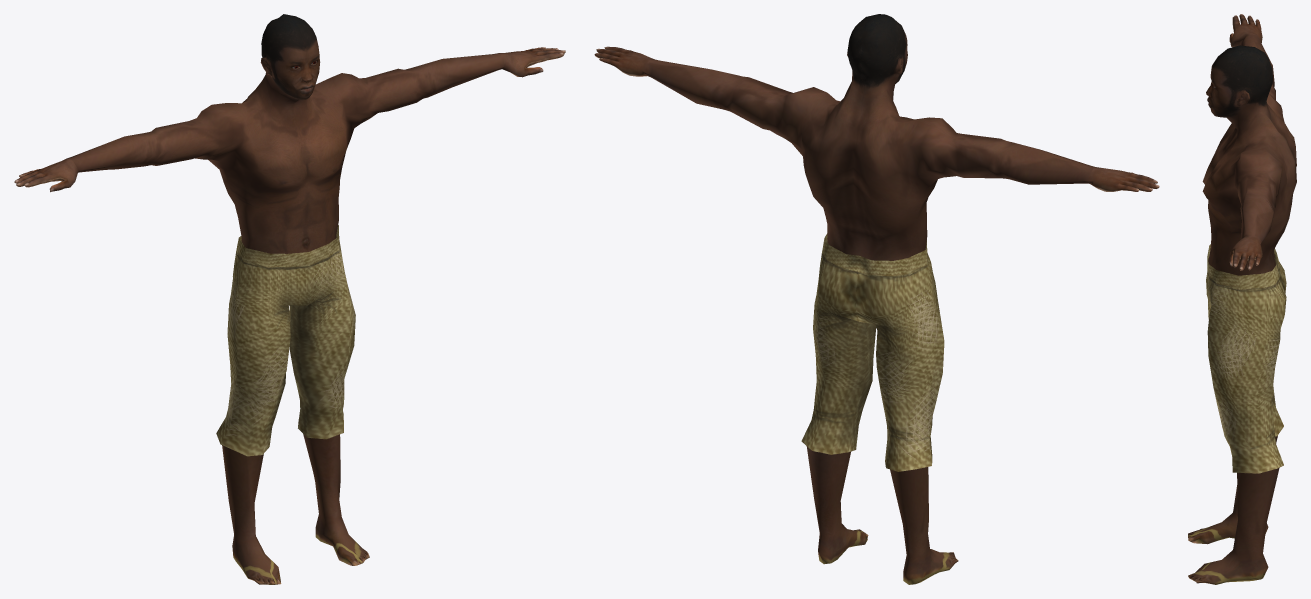
Rendered from Osório Consertado.fbx.
The picture shows the model from 3 angles, left to right: view 1: azimuth 30°, elevation 25°; view 2: azimuth 150°, elevation 25°; view 3: azimuth 270°, elevation 25°; orthographic projection. The views are drawn at different scales.
Visible parts, largest first — view 1: Corpo; view 2: Corpo; view 3: Corpo.
Boxes of the visible parts, x1=… form: Corpo: x1=14, y1=14, x2=565, y2=584; Corpo: x1=594, y1=14, x2=1159, y2=584; Corpo: x1=1188, y1=14, x2=1296, y2=584.
Size of the model in its own units: 192 by 179 by 34.51.
